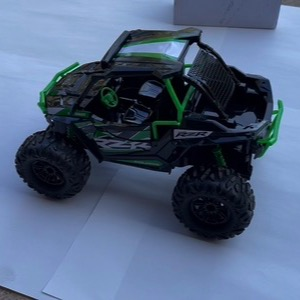polaris: (14, 27, 285, 242)
